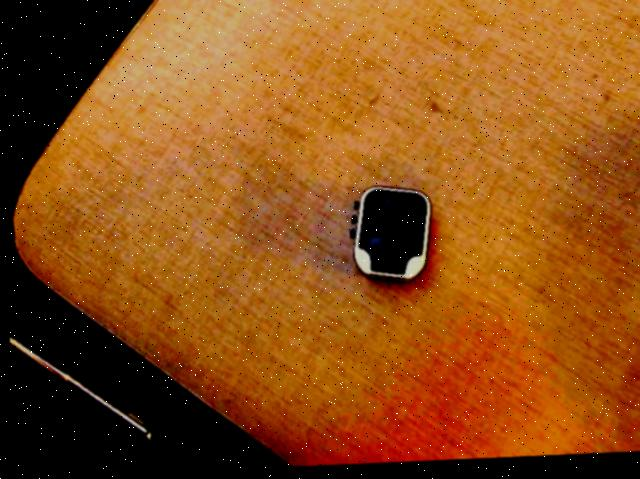adapter: (346, 187, 430, 287)
